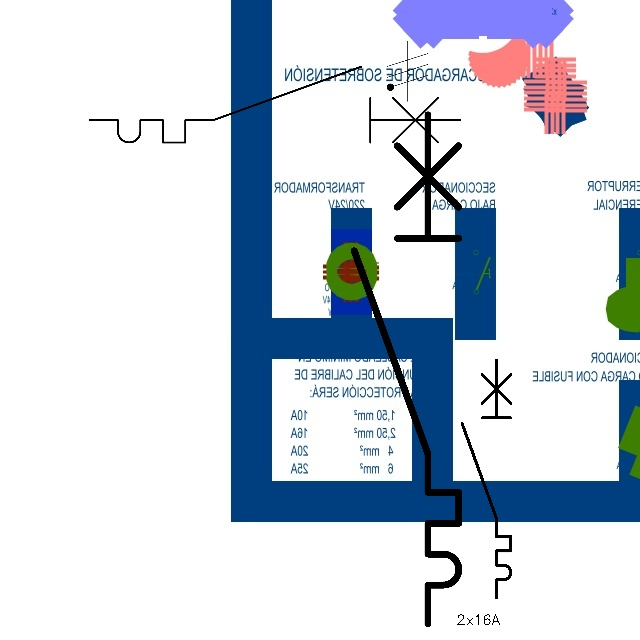interruptor_termomagnetico: (341, 101, 472, 636), (80, 57, 470, 152), (456, 354, 517, 604)
